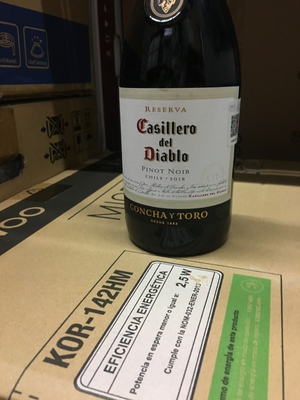casillero del diablo pinot noir: (102, 14, 248, 247)
